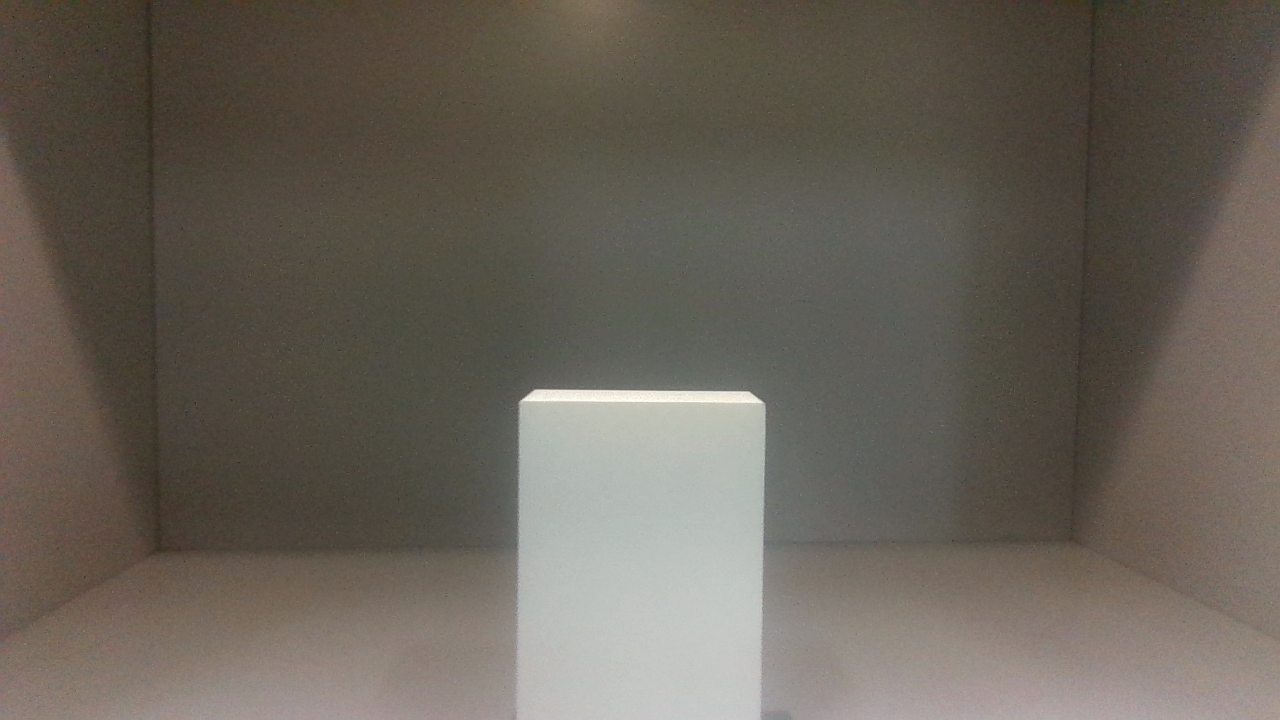Retangulo: (516, 389, 764, 719)
